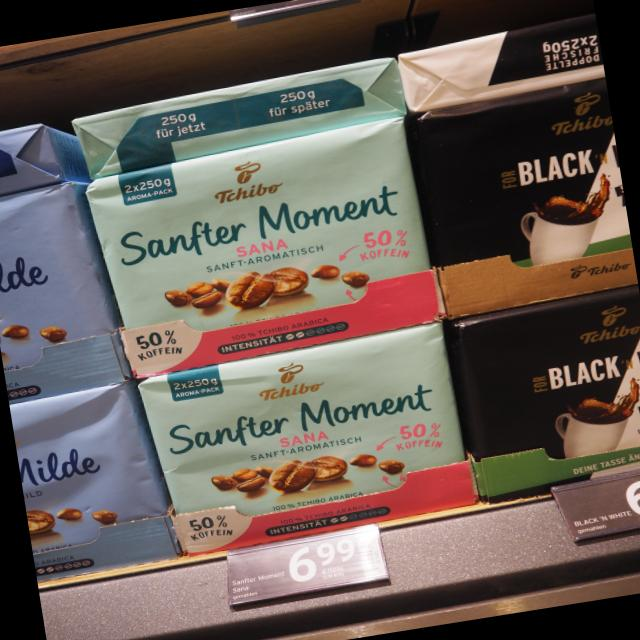SM Gemahlen: (81, 112, 443, 382), (132, 315, 477, 563)
